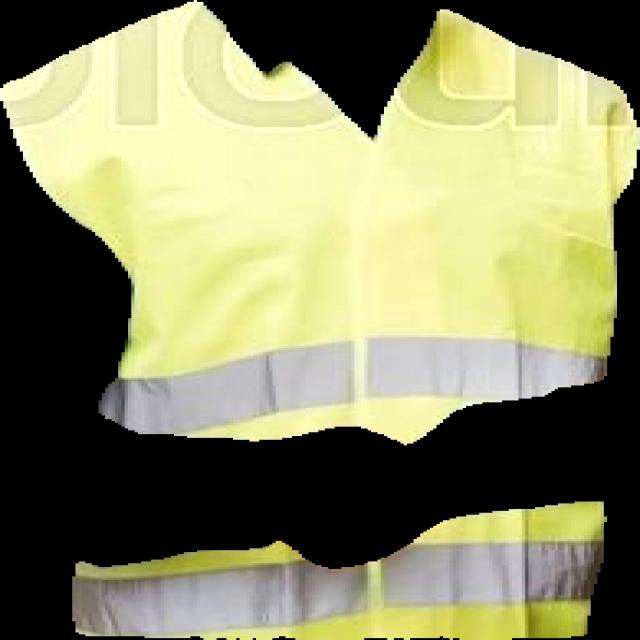Colete: (0, 0, 639, 445)
